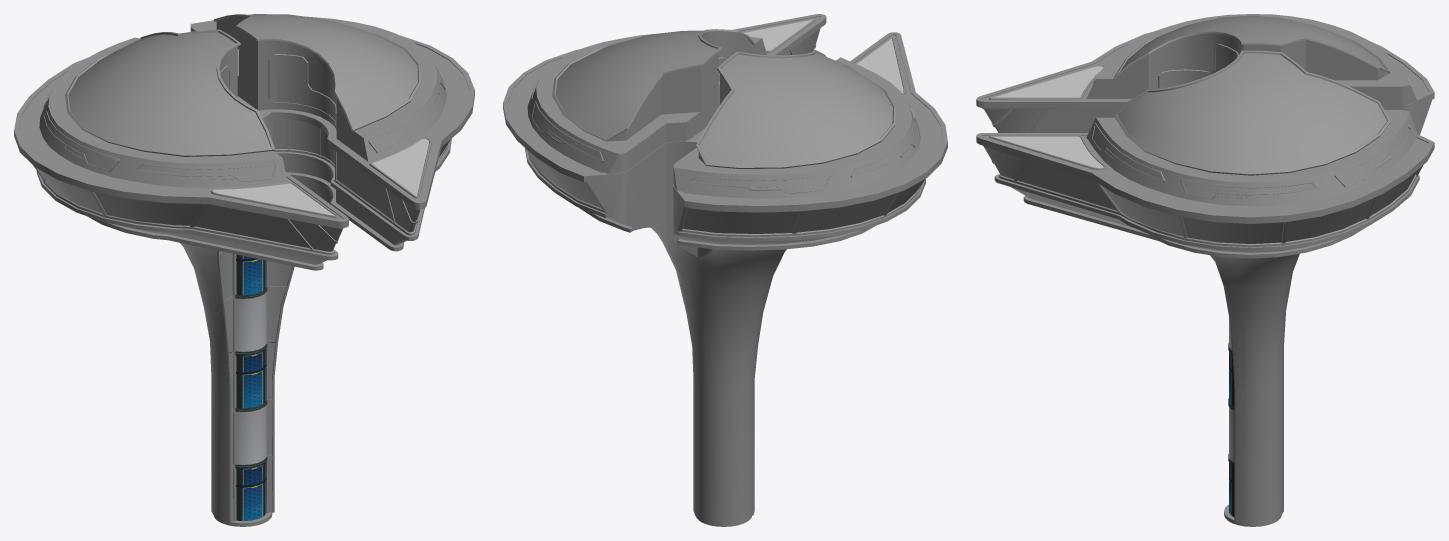
File: mesh_1002_props01.FBX
3 views of the same model, side by side, from view 1: azimuth 30°, elevation 25°; view 2: azimuth 150°, elevation 25°; view 3: azimuth 270°, elevation 25° (orthographic). The views are drawn at different scales.
Visible parts, largest first — view 1: mesh_1002_props01a, mesh_1002_props01c, mesh_1002_props01d, mesh_1002_props01b, mesh_1002_props01g, mesh_1002_props01e; view 2: mesh_1002_props01a, mesh_1002_props01d, mesh_1002_props01c, mesh_1002_props01b, mesh_1002_props01e; view 3: mesh_1002_props01a, mesh_1002_props01d, mesh_1002_props01c, mesh_1002_props01b, mesh_1002_props01e, mesh_1002_props01g.
Boxes of the visible parts, x1,y1,x2,y2 form: mesh_1002_props01a: (19, 16, 469, 526); mesh_1002_props01c: (36, 14, 450, 523); mesh_1002_props01d: (68, 14, 417, 153); mesh_1002_props01b: (14, 35, 474, 521); mesh_1002_props01g: (223, 126, 267, 521); mesh_1002_props01e: (213, 139, 428, 215); mesh_1002_props01a: (508, 17, 942, 526); mesh_1002_props01d: (555, 30, 892, 165); mesh_1002_props01c: (529, 18, 925, 233); mesh_1002_props01b: (503, 14, 947, 250); mesh_1002_props01e: (744, 19, 903, 93); mesh_1002_props01a: (982, 14, 1431, 526); mesh_1002_props01d: (1117, 15, 1386, 172); mesh_1002_props01c: (984, 29, 1418, 521); mesh_1002_props01b: (976, 32, 1434, 258); mesh_1002_props01e: (993, 66, 1103, 168); mesh_1002_props01g: (1228, 317, 1234, 516).
Bounding box in the file's own units: 5165 × 5633 × 4998.
